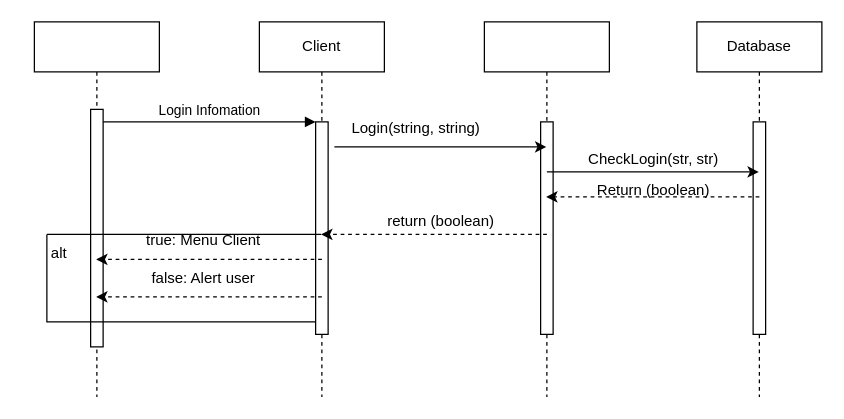
Image size: 844x419. Some labels were removed from this diagram. Each missing label, with the box of its shape:
Server: (483, 21, 609, 397)
User: (33, 21, 159, 397)
